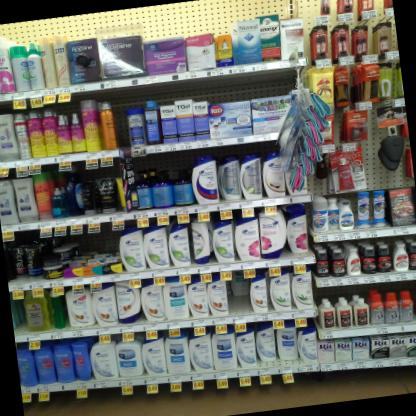empty_space: (225, 269, 251, 316), (112, 86, 131, 148)
